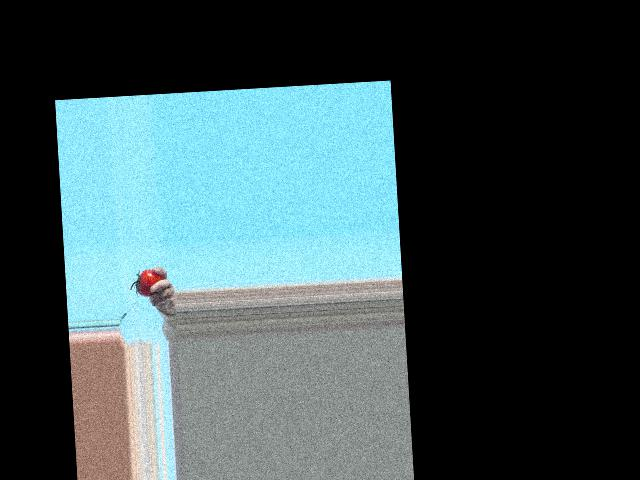tomato: (135, 268, 164, 297)
